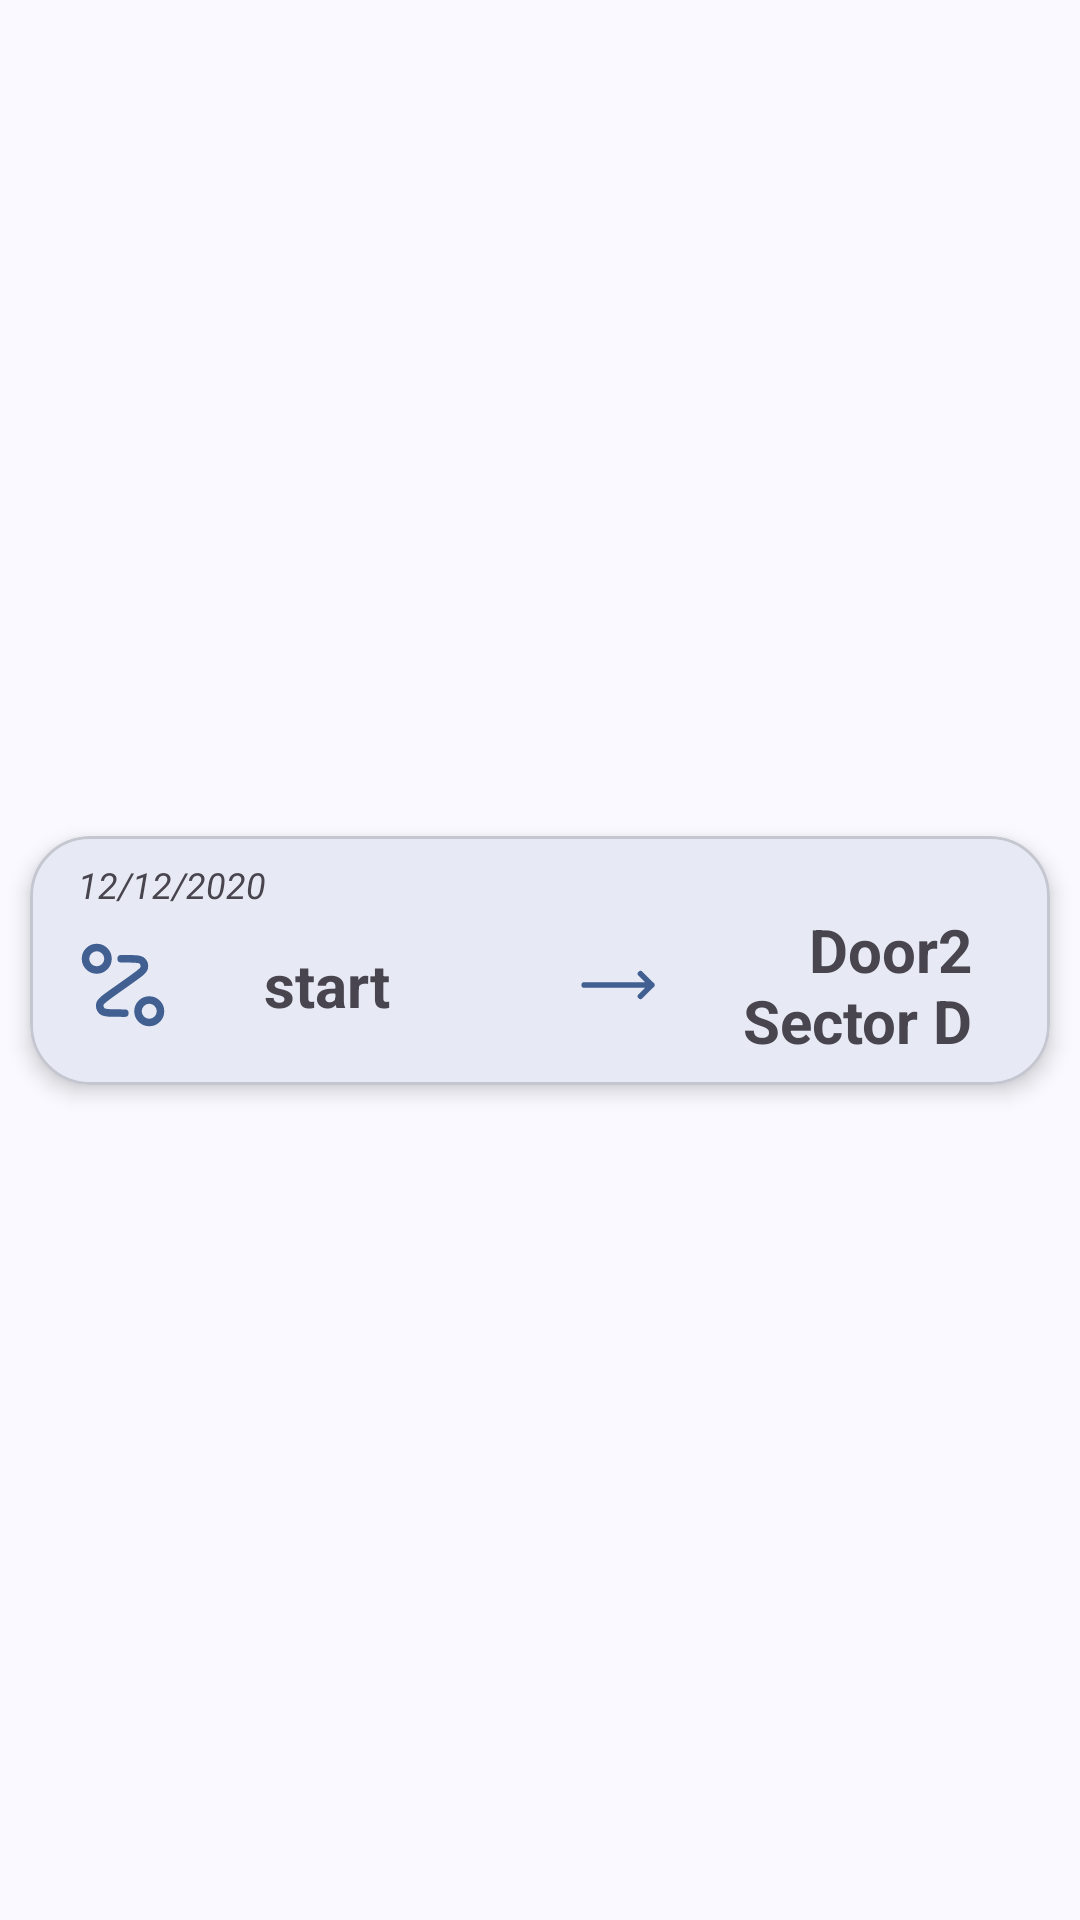

Named icons in this screenshot (1080px×1920px) and their centers, (x=x, y=y):
right arrow: (x=618, y=985)
route: (x=123, y=985)
